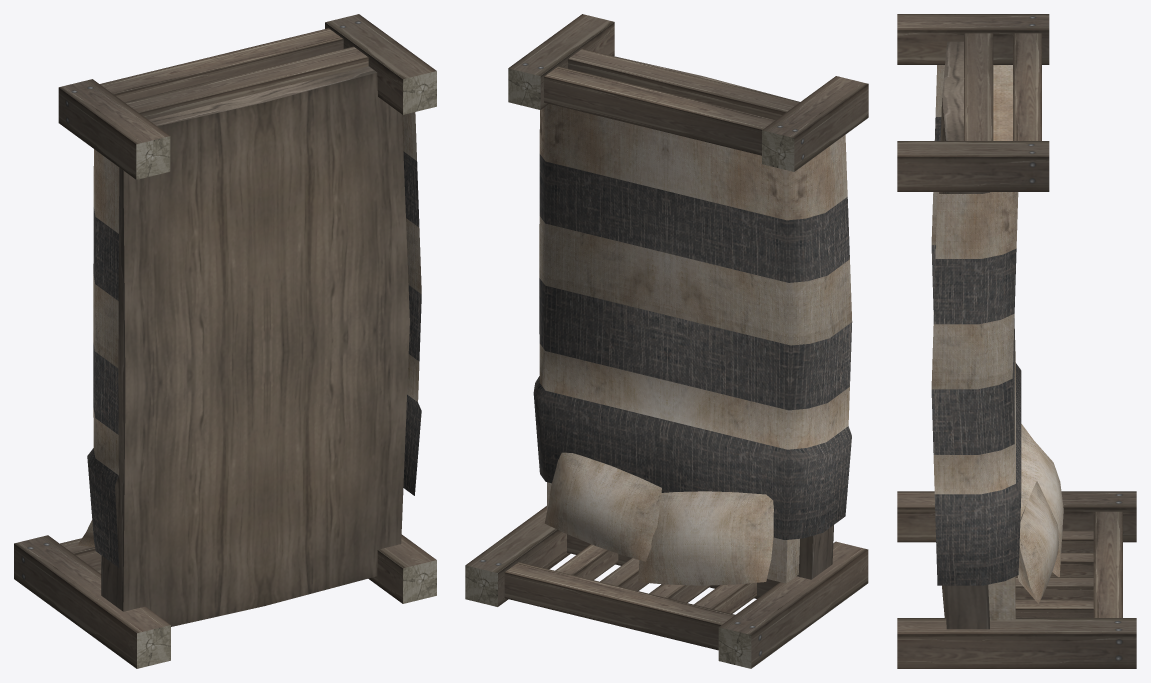
File: Bed_01_A.fbx
3 renders of one model, left to right at view 1: azimuth 30°, elevation 25°; view 2: azimuth 150°, elevation 25°; view 3: azimuth 270°, elevation 25°, orthographic. The views are drawn at different scales.
Visible parts, largest first — view 1: Bed_01_A; view 2: Bed_01_A; view 3: Bed_01_A.
Boxes of the visible parts, left/top/right/bottom form: Bed_01_A: left=14, top=14, right=436, bottom=668; Bed_01_A: left=465, top=14, right=868, bottom=668; Bed_01_A: left=897, top=14, right=1136, bottom=668.
Size of the model in its own units: 2.23 by 3.65 by 1.55.
